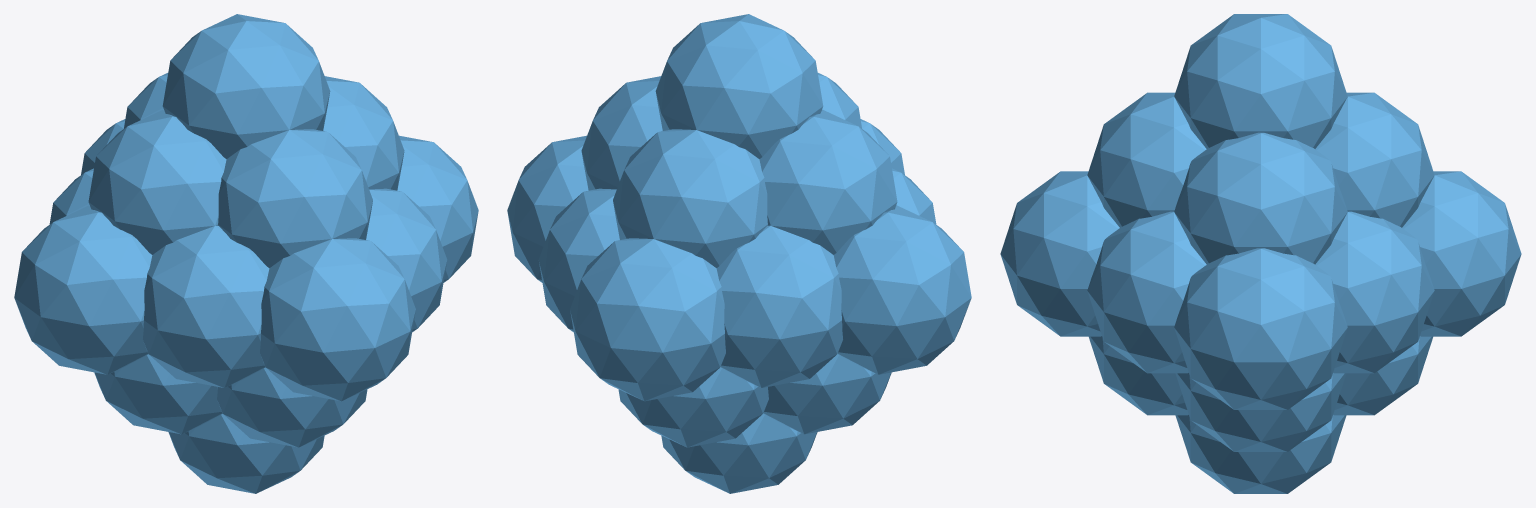
The model's file is Atom.fbx.
3 renders of one model, left to right at view 1: azimuth 30°, elevation 25°; view 2: azimuth 150°, elevation 25°; view 3: azimuth 270°, elevation 25°, orthographic.
Parts seen in each view (by area): view 1: Base; view 2: Base; view 3: Base.
Part boxes in pixels (box(x1,y1,x2,y2)): Base: box(14, 14, 478, 493); Base: box(507, 14, 971, 493); Base: box(1000, 14, 1521, 493).
Size of the model in its own units: 197 by 200 by 200.
